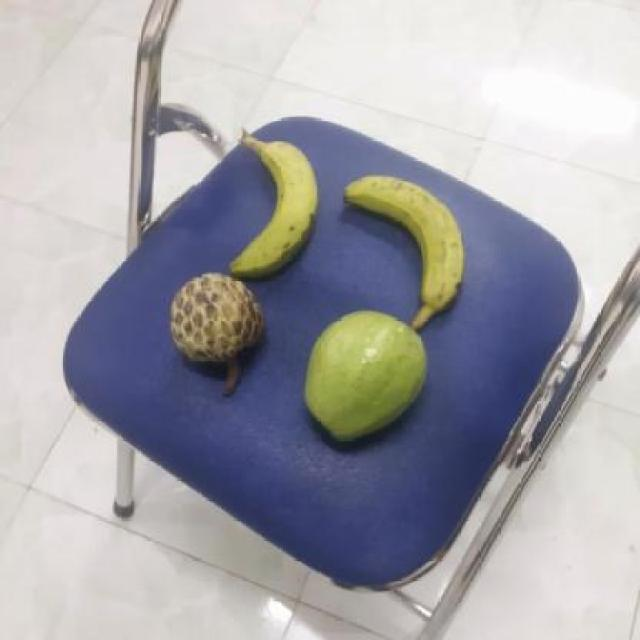banana: (344, 172, 471, 316), (228, 137, 322, 278)
guava: (300, 310, 434, 442)
sugar apple: (169, 272, 266, 368)
